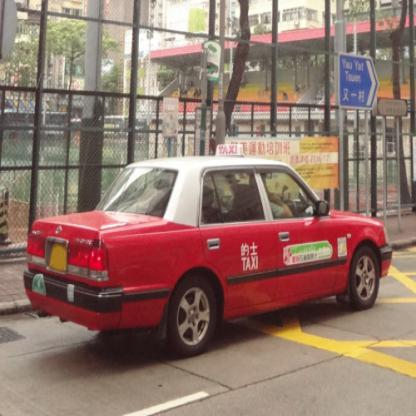taxi: (24, 140, 396, 362)
